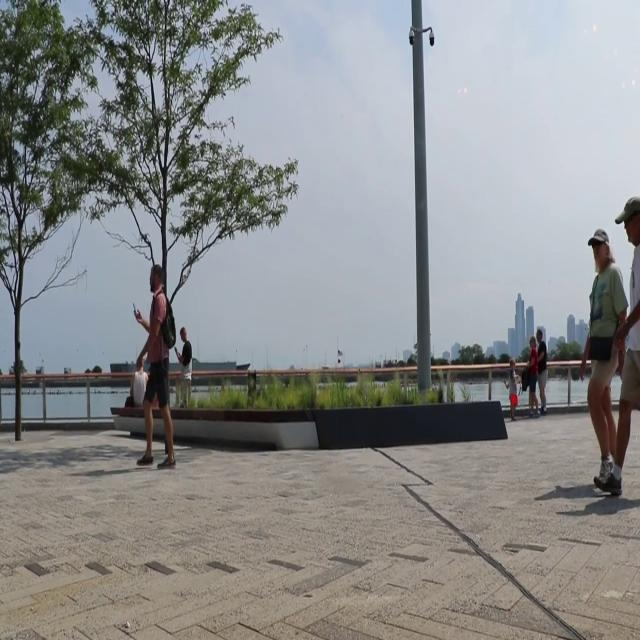normal: (576, 226, 630, 490), (128, 259, 186, 473)
